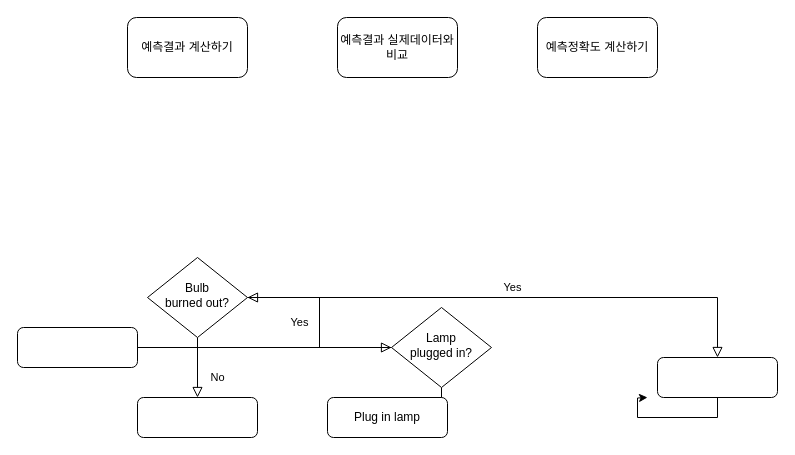
Image size: 795x455. Some labels were removed from this diagram. Each missing label, with the centre of its shape:
"Lamp doesn't work" belongs at (x=77, y=347).
"Repair Lamp" belongs at (x=197, y=417).
"Replace Bulb" belongs at (x=717, y=377).
